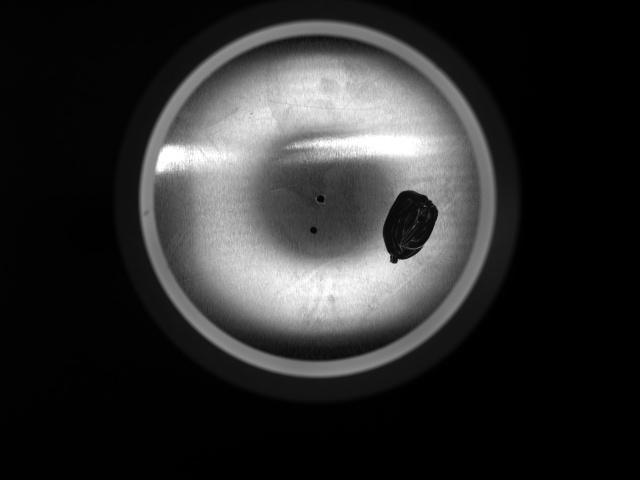zang_wu: (378, 186, 440, 266)
zhen_kong: (313, 191, 327, 206), (308, 224, 319, 236)
